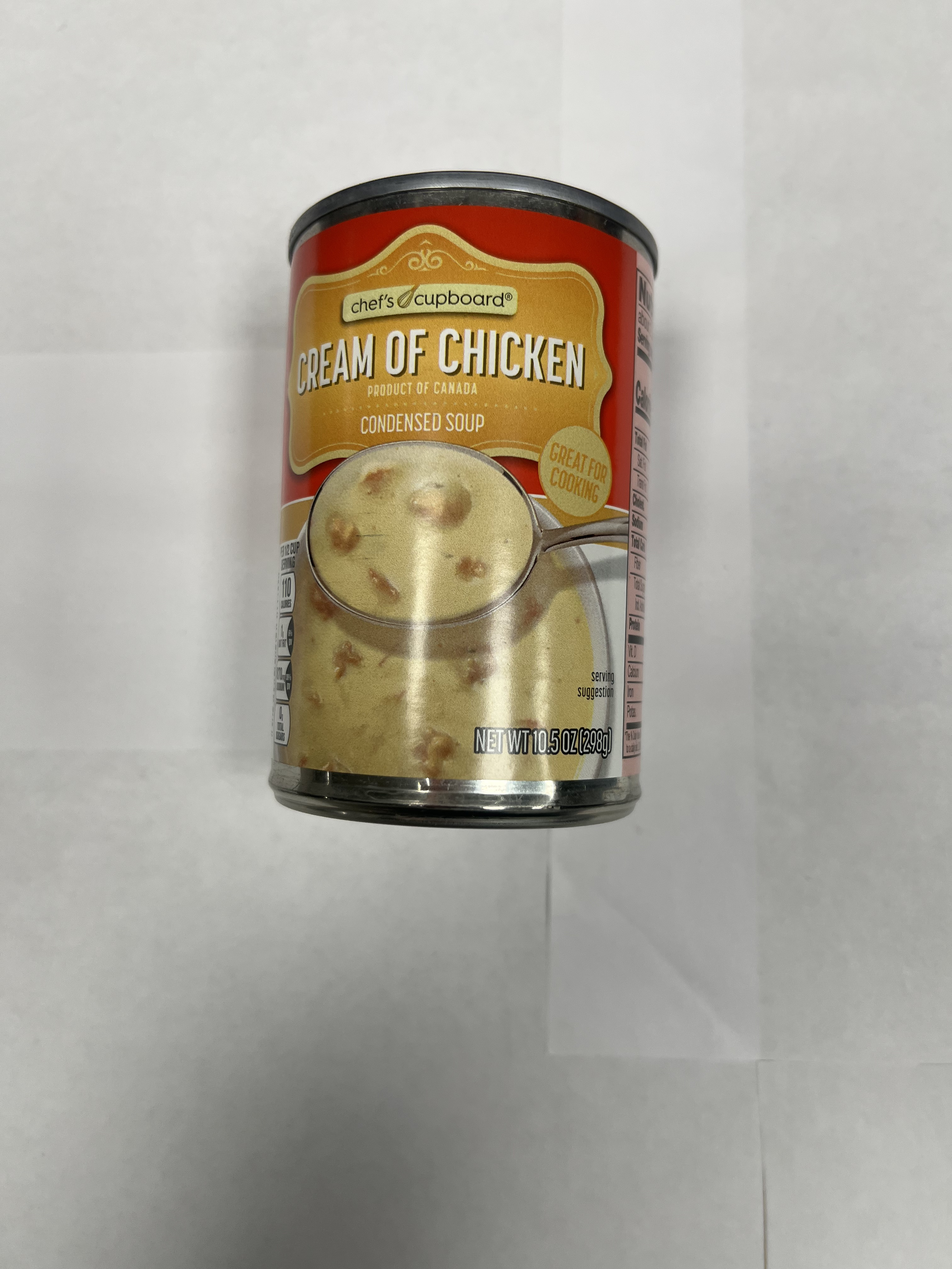packaged: (264, 168, 664, 834)
